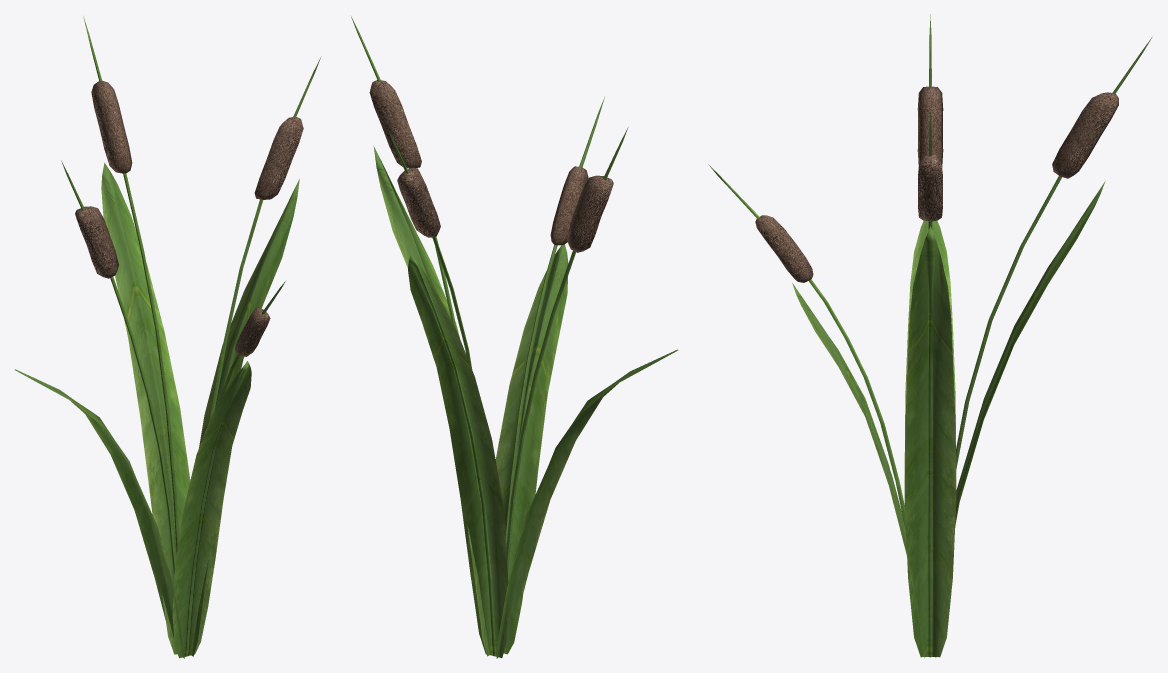
Rendered from cattail-plant.glb.
3 views of the same model, side by side, from view 1: azimuth 30°, elevation 25°; view 2: azimuth 150°, elevation 25°; view 3: azimuth 270°, elevation 25° (orthographic). The views are drawn at different scales.
Parts seen in each view (by area): view 1: _01_0, _01_1; view 2: _01_0, _01_1; view 3: _01_0, _01_1.
Part boxes in pixels (<box>): _01_0: <box>15,16,321,658</box>; _01_1: <box>75,80,303,356</box>; _01_0: <box>351,16,678,658</box>; _01_1: <box>369,80,613,252</box>; _01_0: <box>708,14,1152,658</box>; _01_1: <box>755,86,1118,282</box>.
Size of the model in its own units: 0.6947 by 1.22 by 0.7961.
2 materials, 2 textured.
